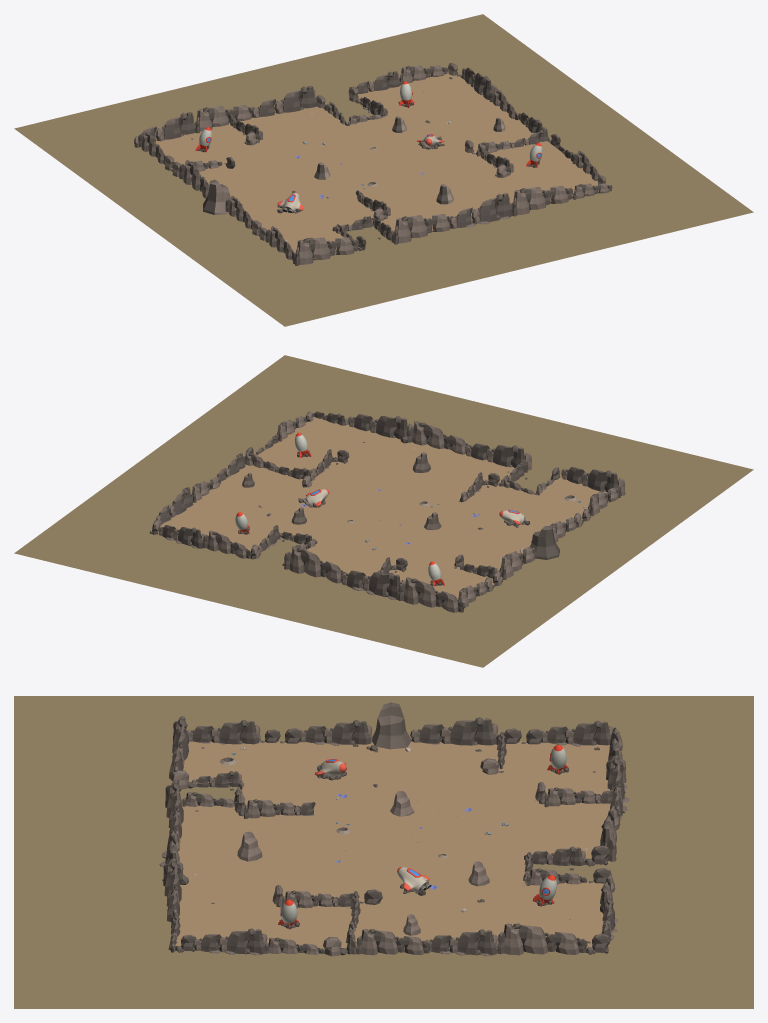
Rendered from EnvLV2.fbx.
3 renders of one model, top to bottom at view 1: azimuth 30°, elevation 25°; view 2: azimuth 150°, elevation 25°; view 3: azimuth 270°, elevation 25°, orthographic. The views are drawn at different scales.
Visible parts, largest first — view 1: Ground, Cube.001, Cube.002, Cylinder.009, Cylinder.001; view 2: Ground, Cube.001, Cube.002, Cylinder.009, Cylinder.001; view 3: Ground, Cube.001, Cube.002, Cylinder.009, Cylinder.001, Cube.003, Cube.004.
Part boxes in pixels (x1,y1,x2,y2): Ground: [14, 14, 753, 326]; Cube.001: [134, 63, 612, 265]; Cube.002: [228, 114, 513, 221]; Cylinder.009: [195, 81, 542, 167]; Cylinder.001: [277, 134, 444, 213]; Ground: [14, 355, 753, 667]; Cube.001: [149, 411, 625, 612]; Cube.002: [310, 449, 499, 574]; Cylinder.009: [235, 432, 444, 586]; Cylinder.001: [303, 489, 526, 524]; Ground: [14, 696, 753, 1008]; Cube.001: [159, 702, 629, 956]; Cube.002: [234, 782, 613, 908]; Cylinder.009: [278, 745, 569, 928]; Cylinder.001: [315, 759, 431, 890]; Cube.003: [403, 861, 489, 935]; Cube.004: [237, 831, 262, 861].
Bounding box in the file's own units: 28461 × 2127 × 28461.
3 materials, 1 textured.
